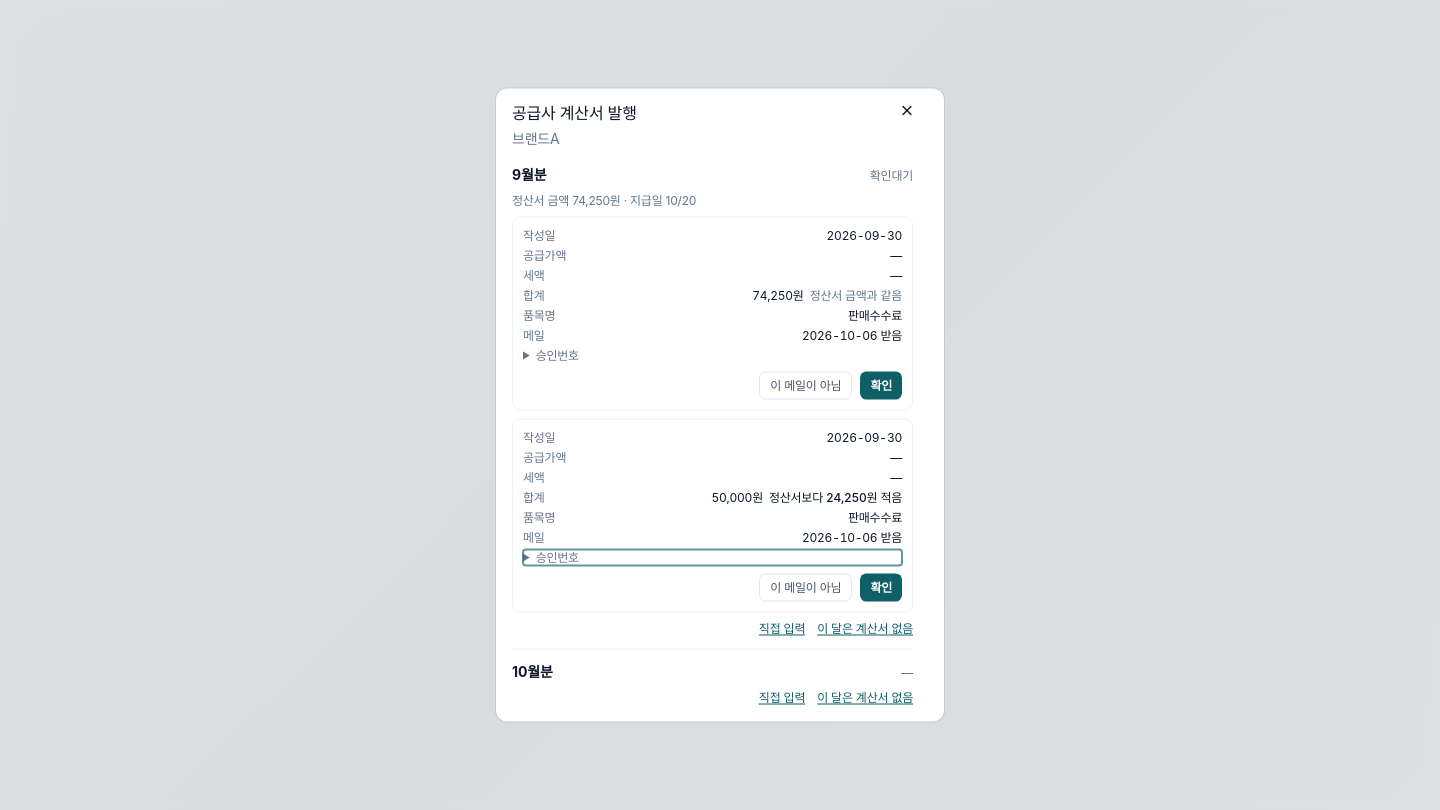
CampaignInvoiceDialog — 정산서 금액 (T-242) › 직접 입력을 정산서 작성일·금액으로 미리 채우고 「정산서 값」임을 알린다
The width and height of the screenshot is (1440, 810).
Check: the text "정산서 금액 74,250원 · 지급일 10/20" is shown, box [512,192,696,208]
Click the button "직접 입력" below "50,000원".
click(782, 628)  # box [759,620,805,636]
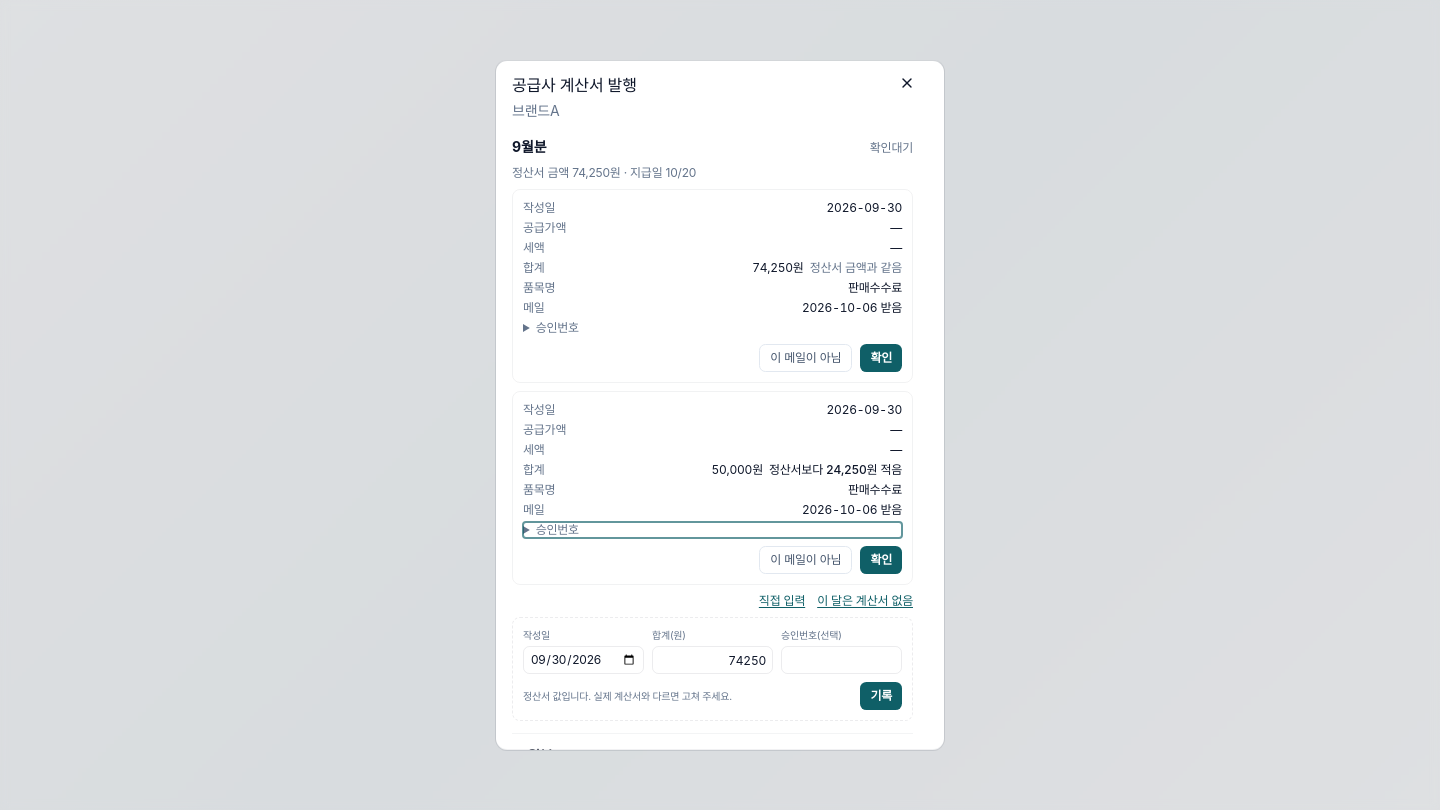
Check: the date field labelled "작성일" holds "2026-09-30", box [523,646,644,674]
Check: the field labelled "합계(원)" holds "74250", box [652,646,773,674]
Check: the text "정산서 값입니다. 실제 계산서와 다르면 고쳐 주세요." is shown, box [523,689,732,703]
